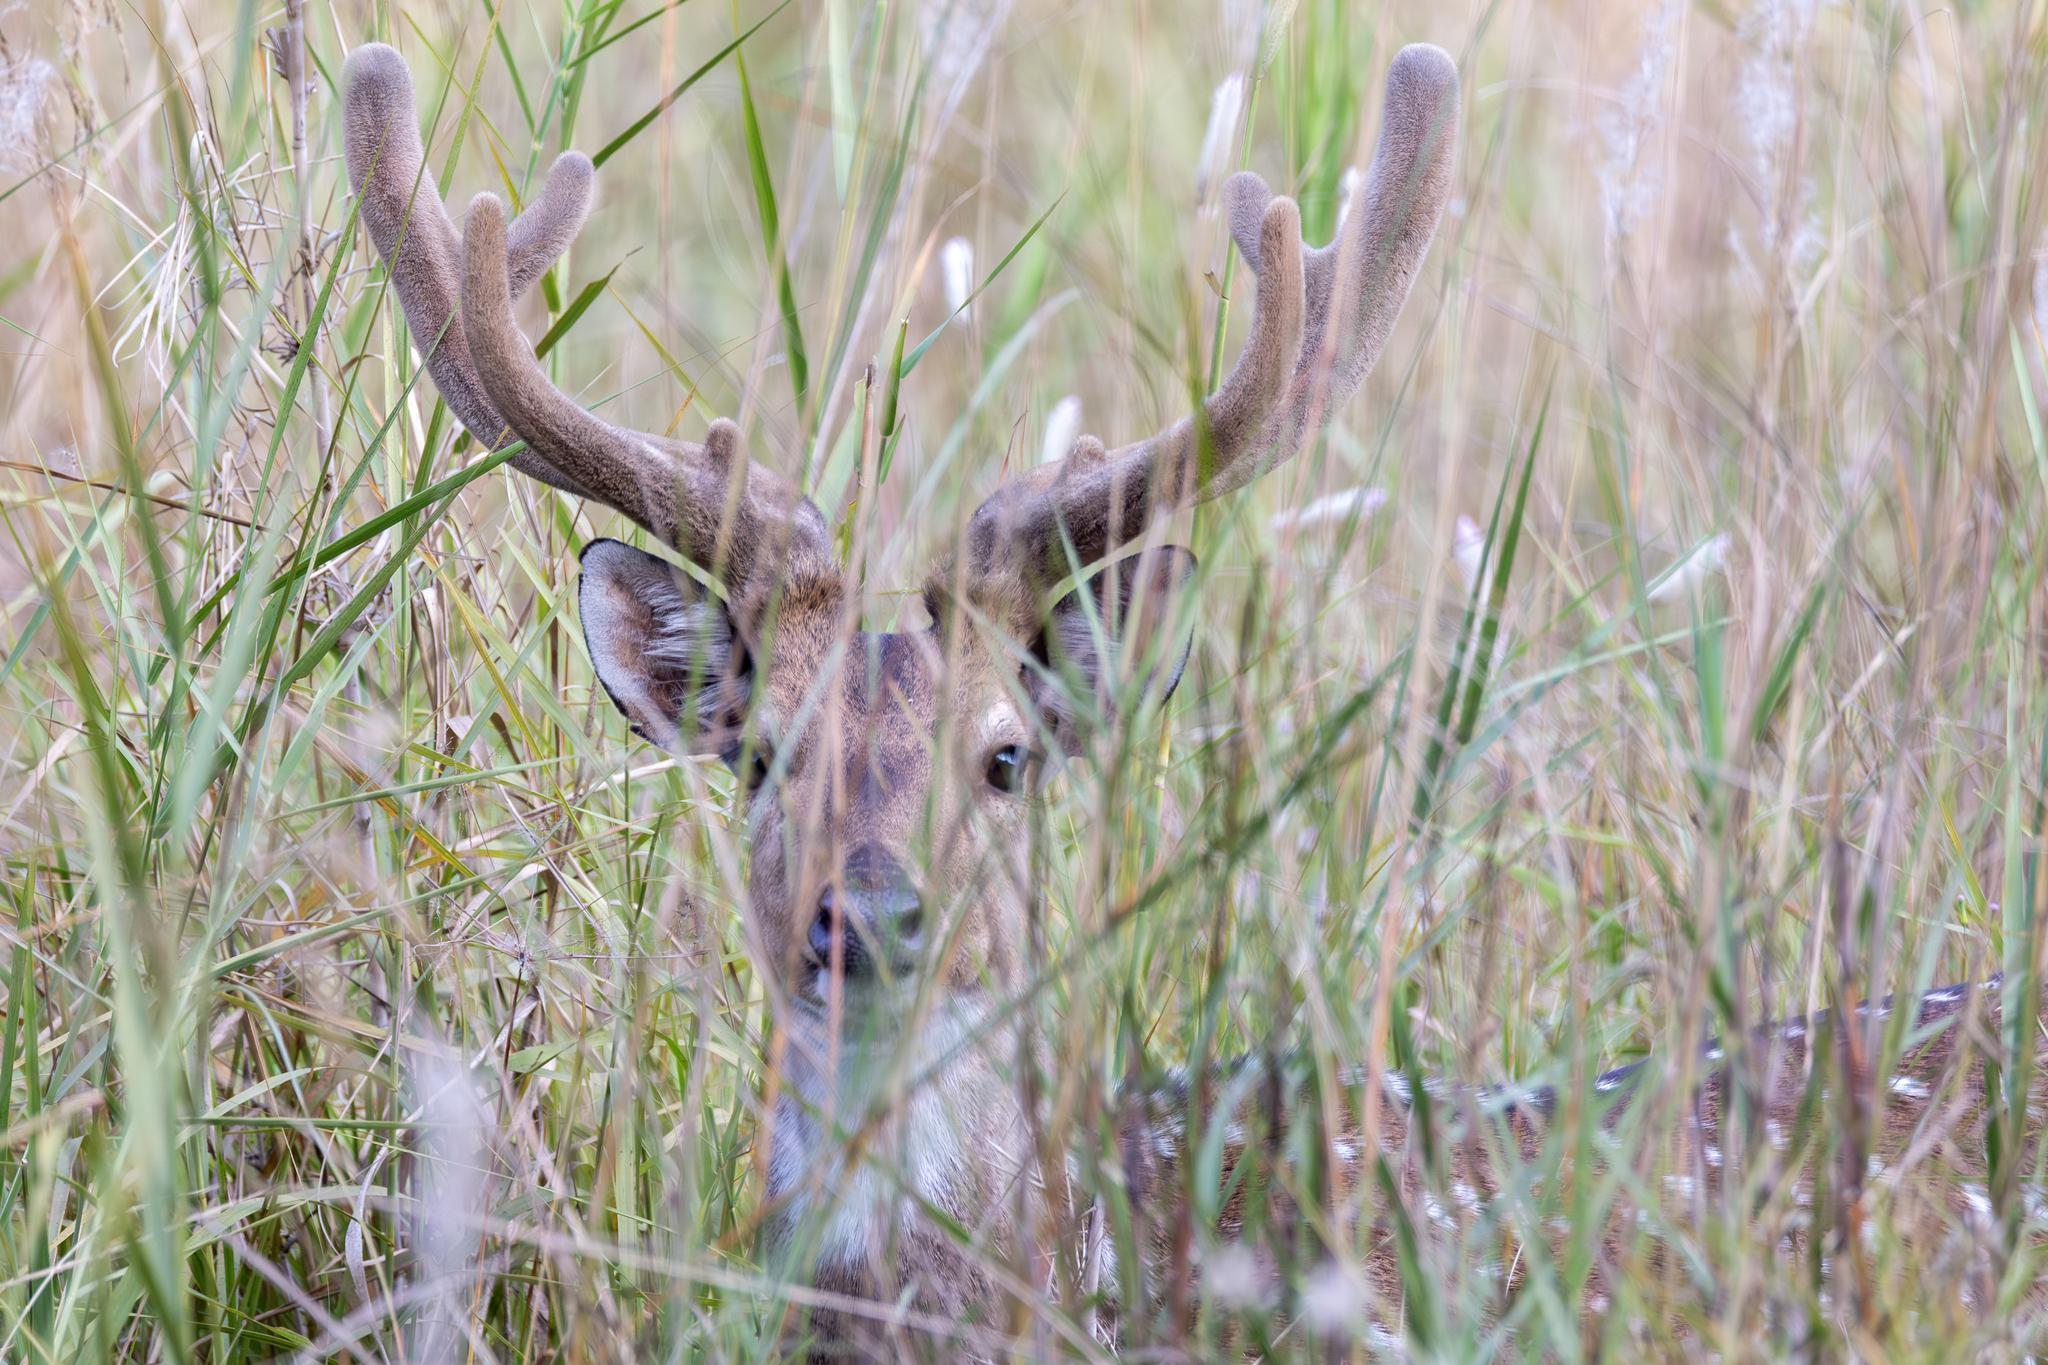Deer: (346, 44, 1456, 1210)
